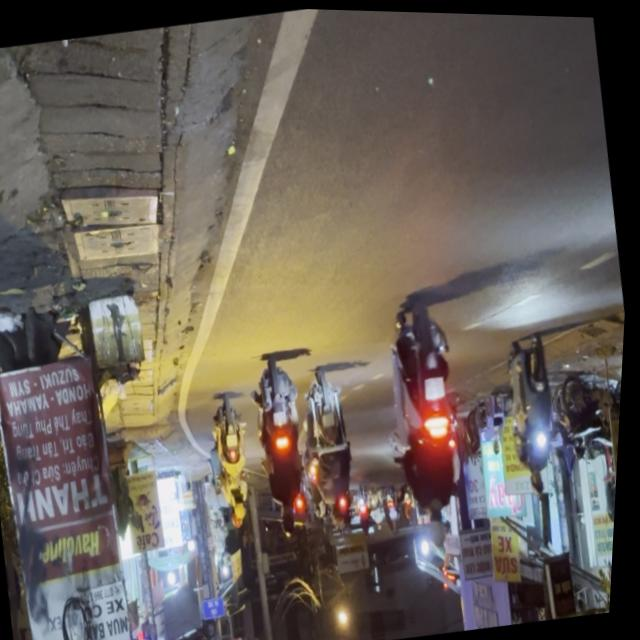helmet: (432, 505, 459, 547), (534, 465, 554, 496)
licenseplate: (374, 286, 489, 556), (498, 321, 579, 499)
nohelmet: (427, 372, 452, 400)
